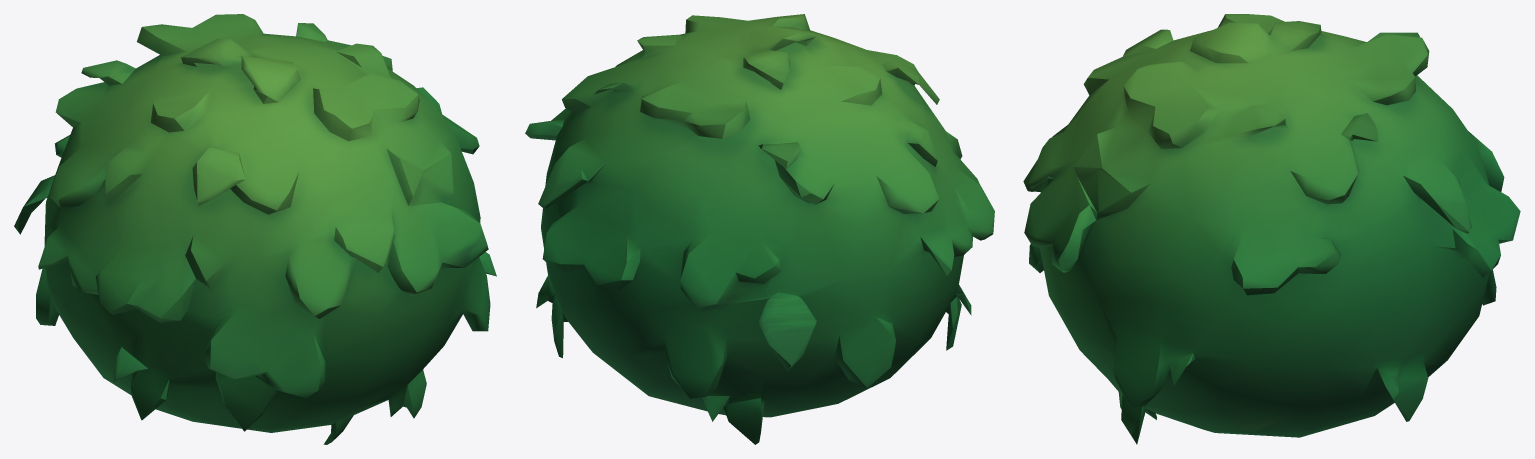
The model's file is casual_tree_003_opt.fbx.
The picture shows the model from 3 angles, left to right: view 1: azimuth 30°, elevation 25°; view 2: azimuth 150°, elevation 25°; view 3: azimuth 270°, elevation 25°; orthographic projection. The views are drawn at different scales.
Visible parts, largest first — view 1: tree_casual_03.007; view 2: tree_casual_03.007; view 3: tree_casual_03.007.
Part boxes in pixels (x1,y1,x2,y2): tree_casual_03.007: [14, 14, 496, 444]; tree_casual_03.007: [525, 14, 994, 444]; tree_casual_03.007: [1023, 14, 1520, 444].
Size of the model in its own units: 797 by 658 by 785.
